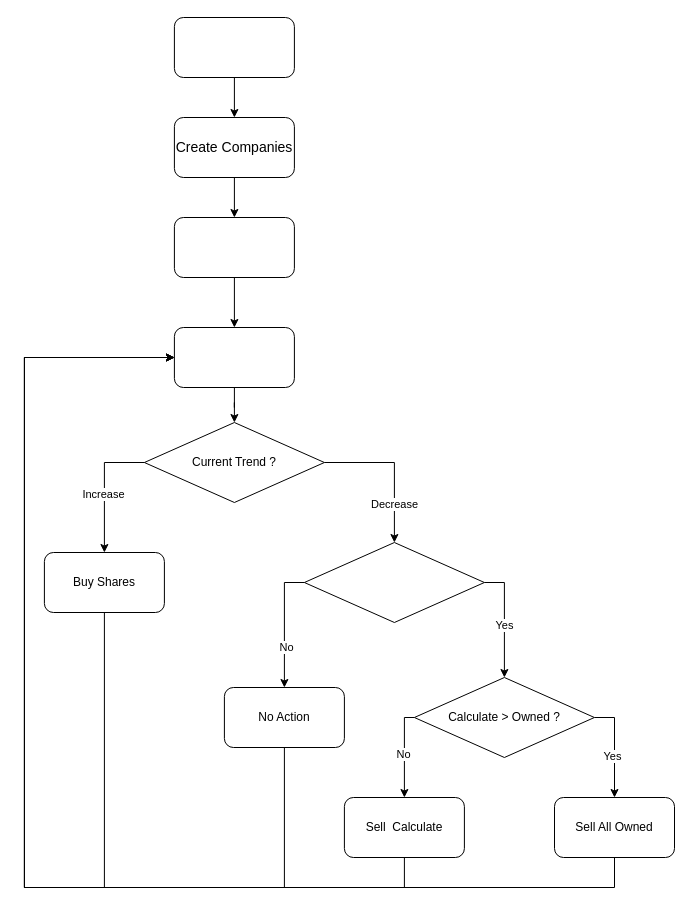
This 693x913 diagram has some shape labels left out. The shapes that lost their labels are listed below. From the top down, each one's centre as x and y in pixels, then its label:
the point at 233,47: Initiate
the point at 233,247: Add to the Market
the point at 233,357: Observe Interest
the point at 393,582: Shares Owned ?
